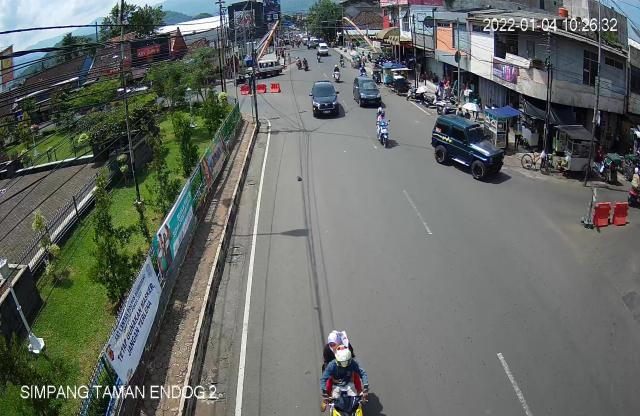Mobil: (428, 110, 507, 187), (307, 78, 345, 122), (350, 73, 385, 114)
Motor: (314, 329, 376, 416), (374, 102, 398, 151)
